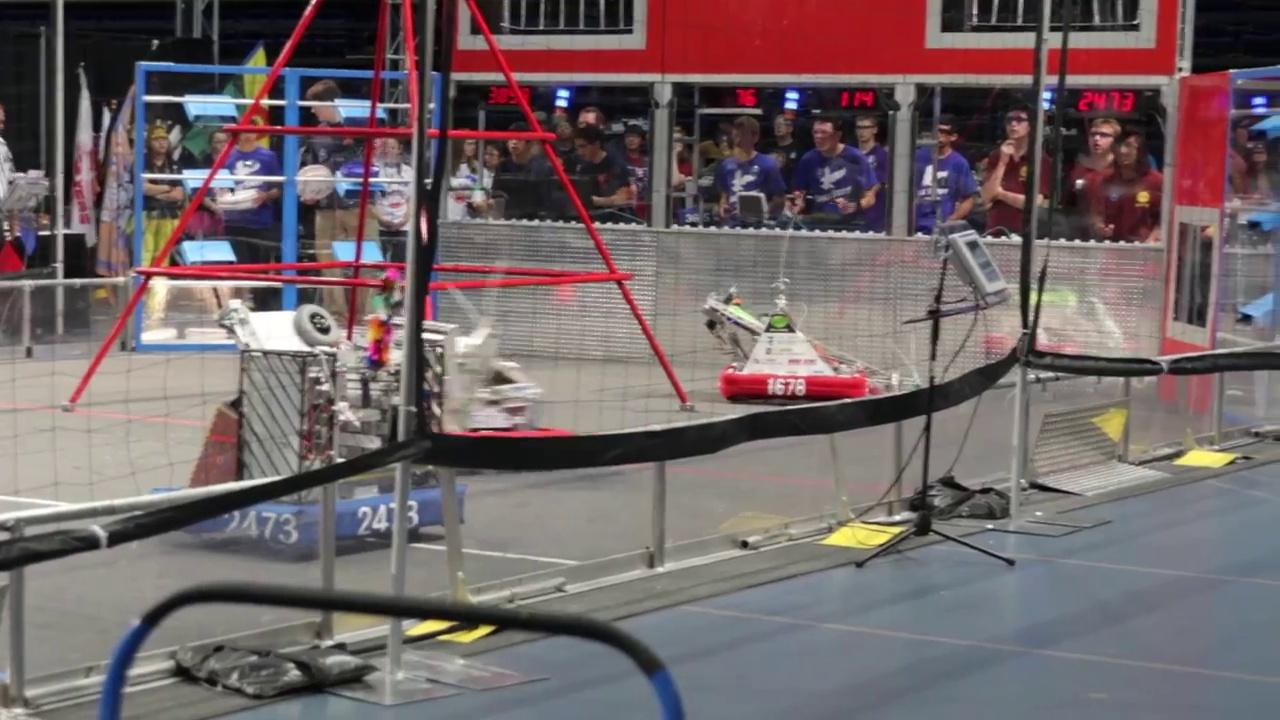robot: (147, 292, 465, 550), (694, 286, 874, 403)
